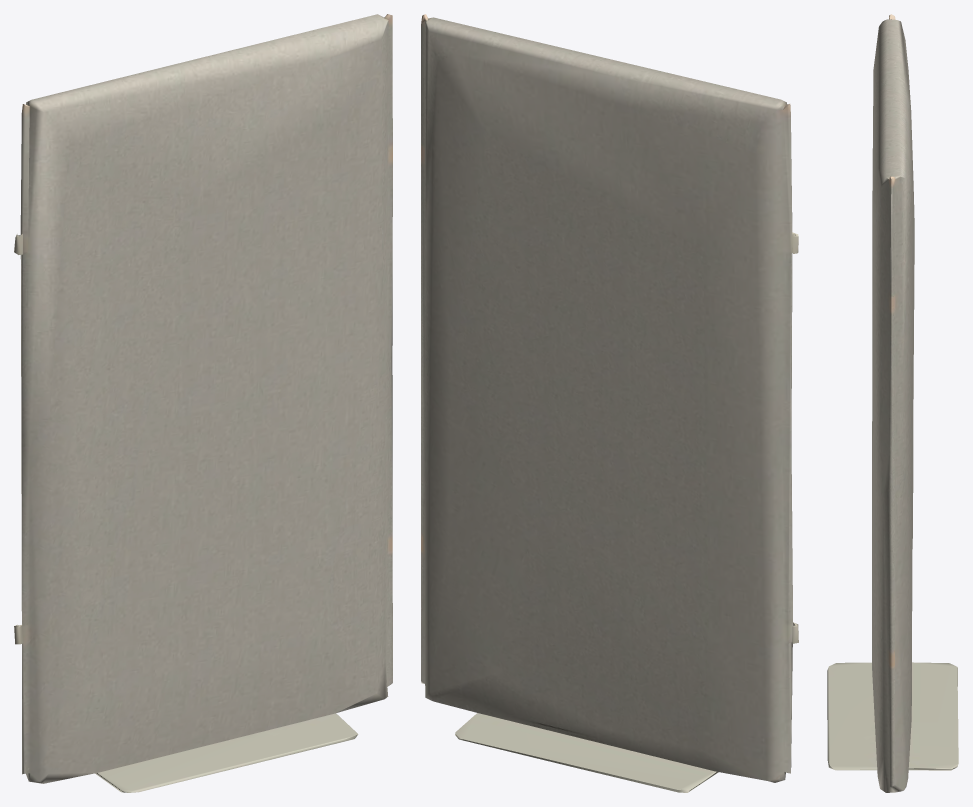
Rendered from 60528206-mini.glb.
3 views of the same model, side by side, from view 1: azimuth 30°, elevation 25°; view 2: azimuth 150°, elevation 25°; view 3: azimuth 270°, elevation 25° (orthographic). The views are drawn at different scales.
Parts seen in each view (by area): view 1: 60528206-MITTZON001; view 2: 60528206-MITTZON001; view 3: 60528206-MITTZON001.
Boxes of the visible parts, x1,y1,x2,y2 form: 60528206-MITTZON001: (14, 14, 392, 792); 60528206-MITTZON001: (421, 14, 798, 792); 60528206-MITTZON001: (827, 14, 958, 792).
Size of the model in its own units: 0.9168 by 1.58 by 0.303.
1 material, 1 textured.
